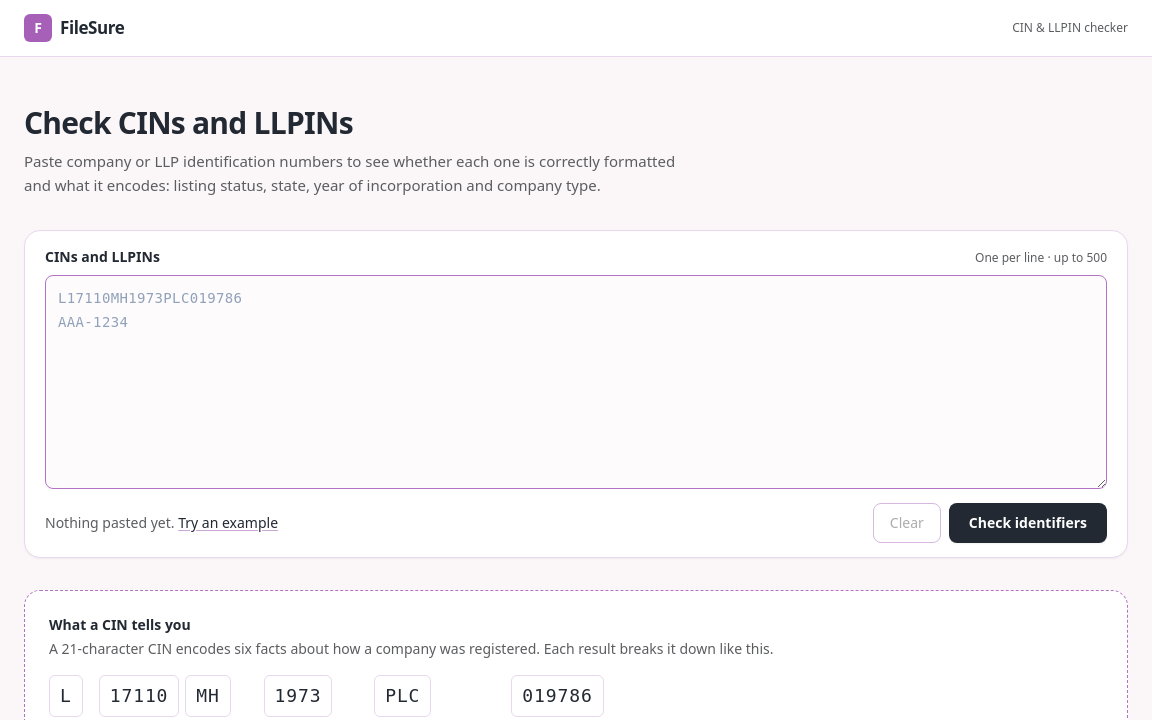
Scenario: App › fills the sample and clears input
The image size is (1152, 720).
Step 1. Click the button with test id "sample-button" → (228, 523), box x1=178 y1=513 x2=278 y2=533
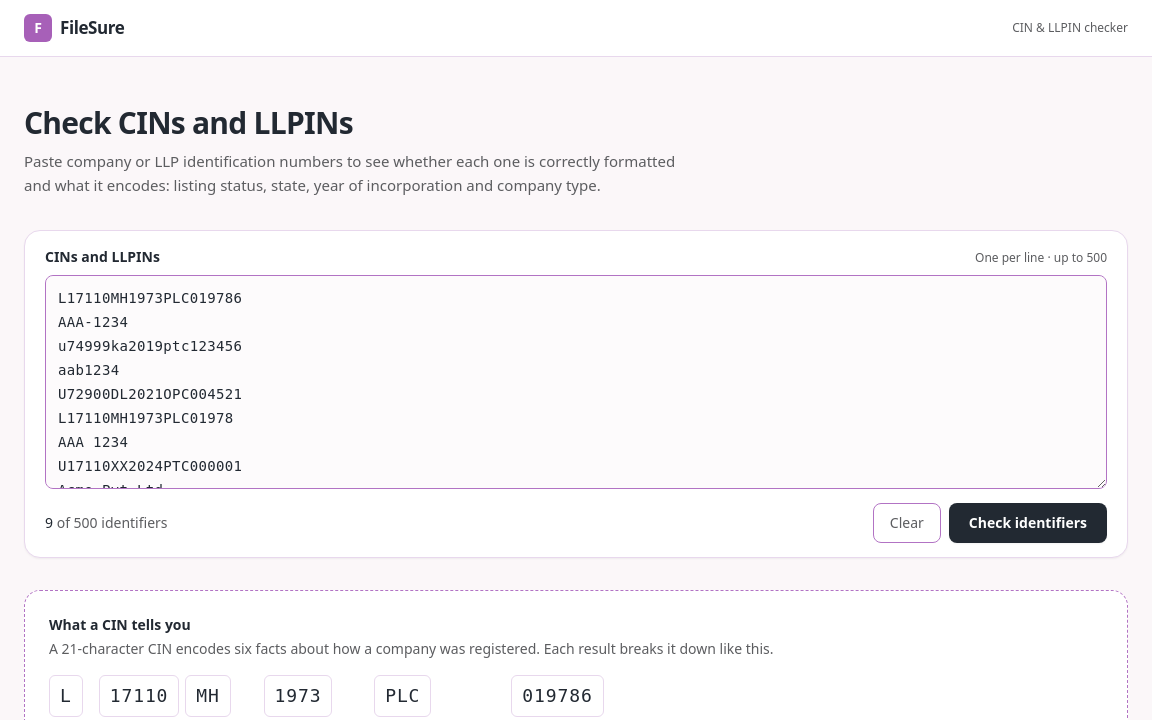
Step 2. Click the button with test id "clear-button" → (907, 523), box x1=873 y1=503 x2=941 y2=543
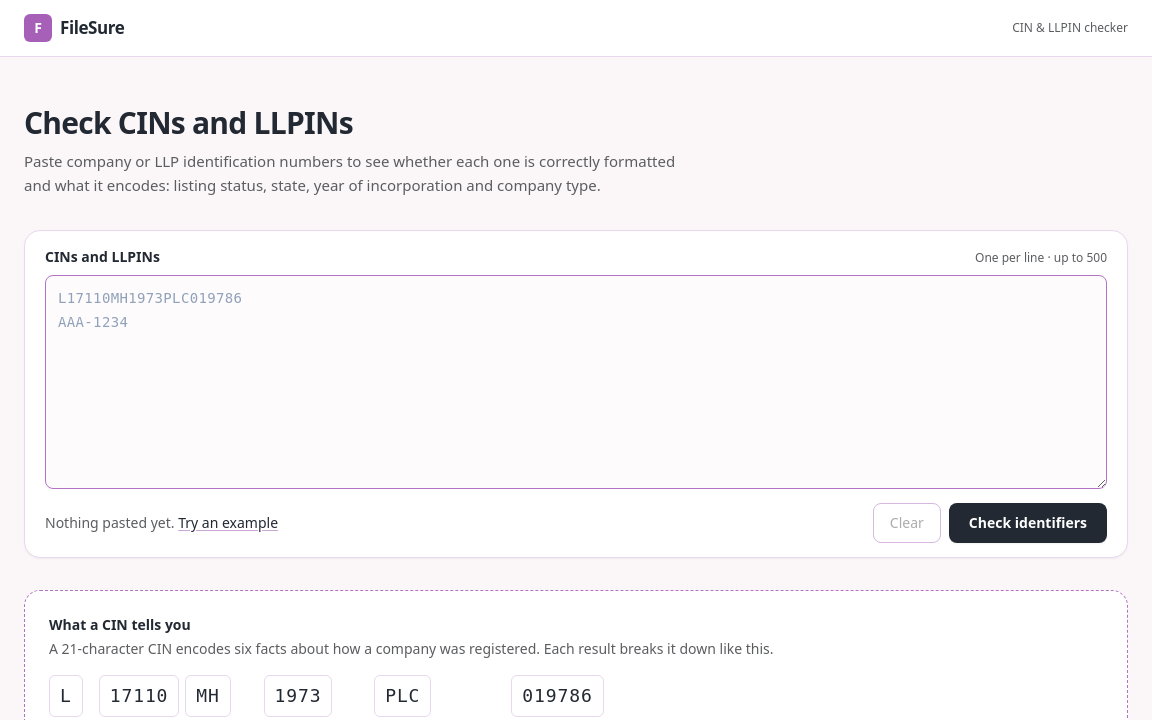
expect the text box with test id "identifier-input" is empty: met, box x1=45 y1=275 x2=1107 y2=489
